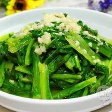youmaicai: (1, 12, 112, 101)
